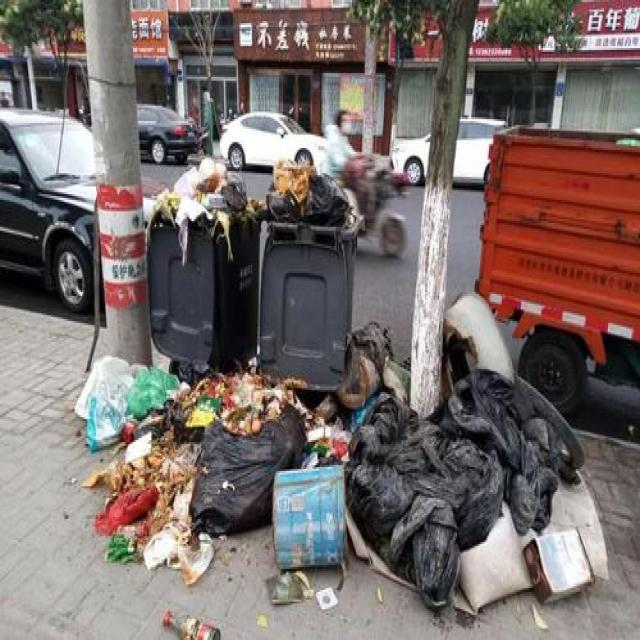garbage: (71, 290, 606, 638)
overflow: (257, 158, 365, 388), (147, 158, 260, 367)
